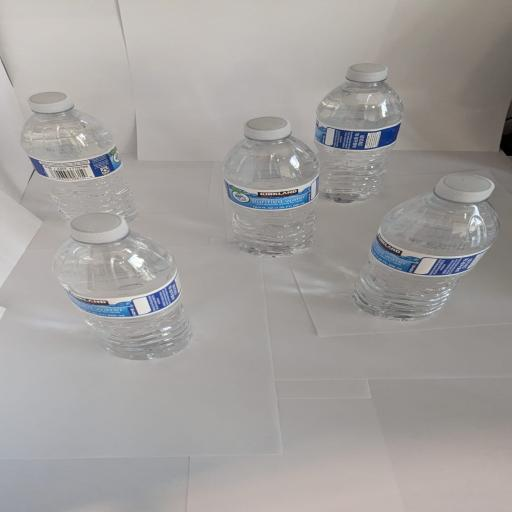waterbottle: (354, 174, 499, 320), (53, 213, 191, 359), (22, 92, 137, 221), (224, 117, 318, 256), (316, 64, 403, 202)
